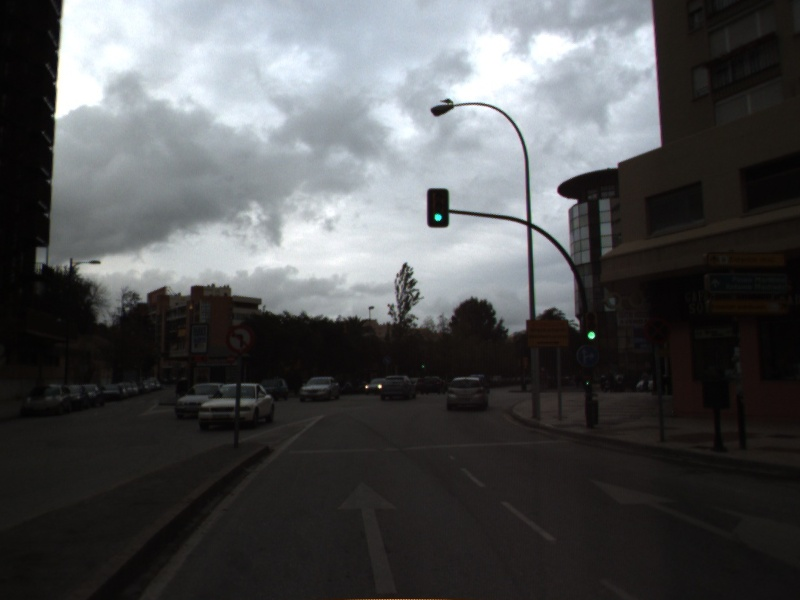STRAIGHT: (333, 476, 404, 595)
STRAIGHT_RIGHT: (588, 475, 800, 572)
